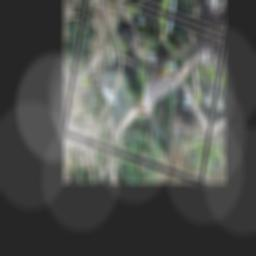Cuckoo: (125, 16, 213, 137)
